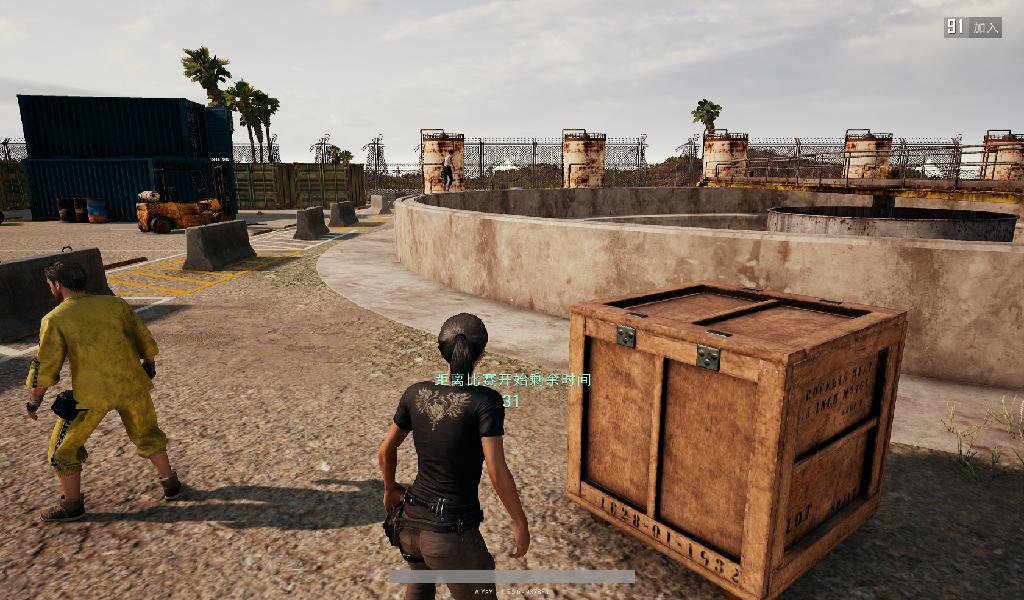Target Person: (378, 312, 531, 600), (23, 260, 190, 523), (441, 148, 456, 192)
